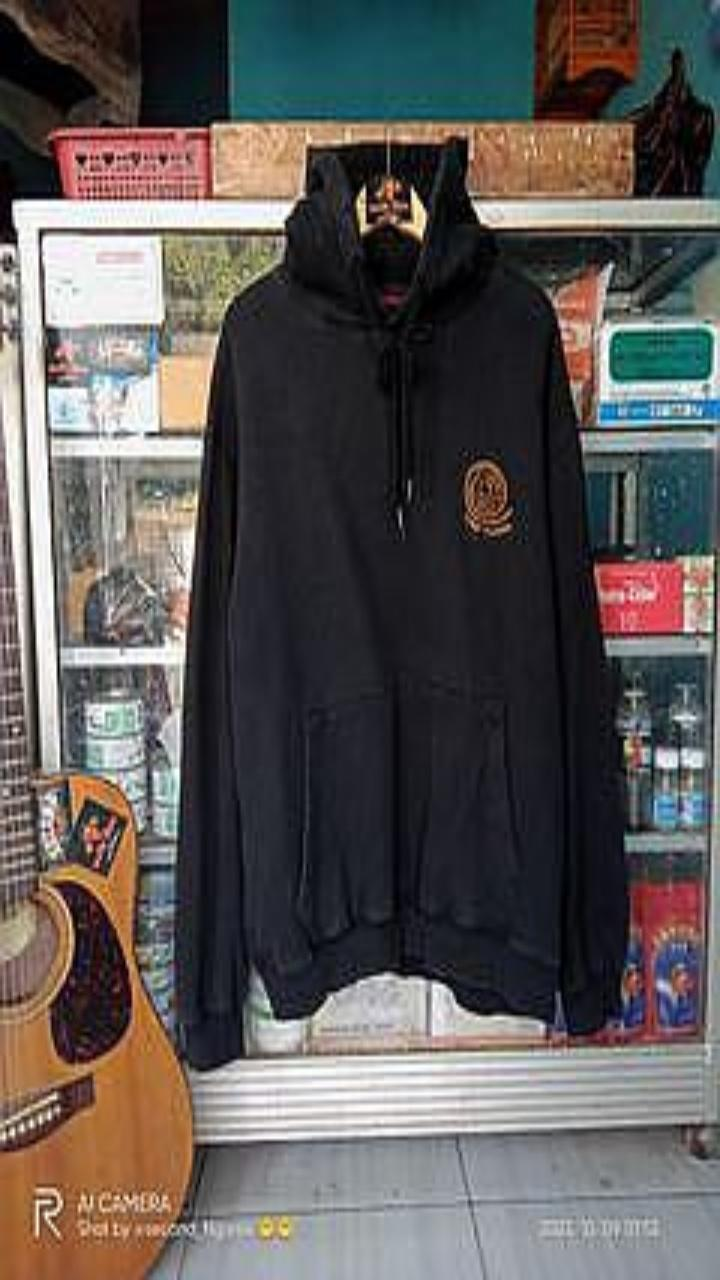Hoodie: (176, 138, 627, 1067)
